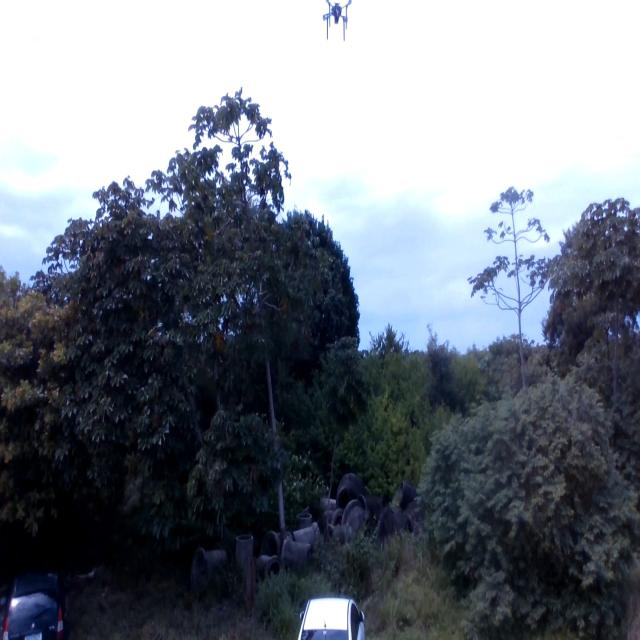-uav-: (321, 0, 352, 41)
